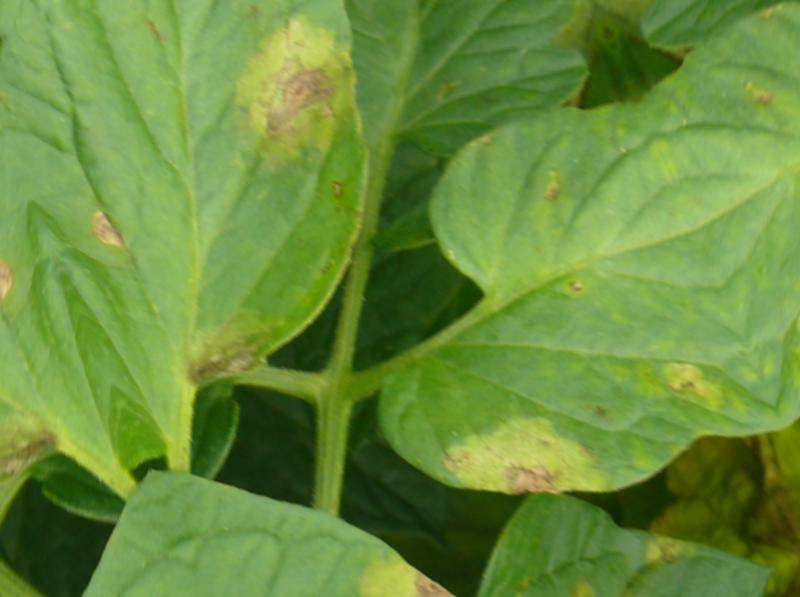Tomato Early blight leaf: (299, 71, 780, 576), (0, 0, 501, 461)
